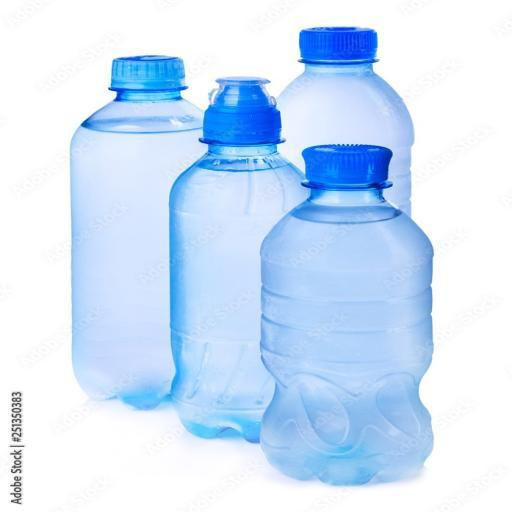bottle: (251, 135, 450, 495), (59, 44, 233, 414), (162, 73, 322, 466)
